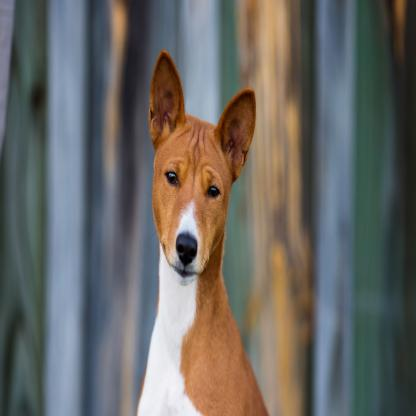Basenji: (123, 39, 276, 408)
